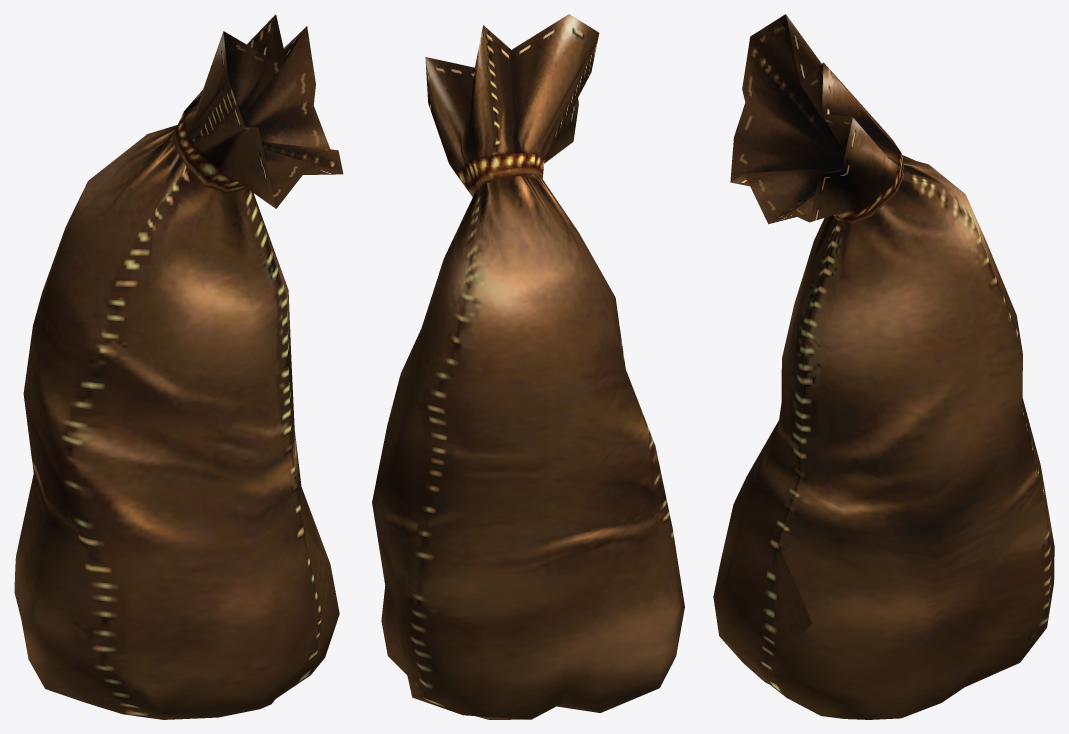
Rendered from ct_bag.glb.
3 views of the same model, side by side, from view 1: azimuth 30°, elevation 25°; view 2: azimuth 150°, elevation 25°; view 3: azimuth 270°, elevation 25° (orthographic). The views are drawn at different scales.
Parts seen in each view (by area): view 1: ct_bag; view 2: ct_bag; view 3: ct_bag.
Part boxes in pixels (<box>): ct_bag: <box>14,14,343,719</box>; ct_bag: <box>372,14,684,719</box>; ct_bag: <box>713,14,1054,719</box>.
Bounding box in the file's own units: 0.5609 × 1.22 × 0.5757.
Materials: 1 (1 with a texture image).
